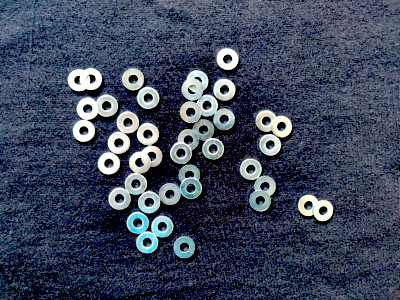circle: (158, 182, 184, 208), (258, 133, 283, 160), (121, 68, 147, 93), (216, 49, 241, 74), (249, 190, 273, 216), (138, 190, 162, 216), (173, 236, 198, 260), (72, 120, 96, 145), (136, 85, 160, 110), (255, 109, 278, 135), (297, 195, 321, 219), (239, 158, 263, 182), (152, 216, 176, 240), (116, 111, 140, 135), (203, 138, 227, 162), (213, 109, 237, 133), (213, 78, 237, 102), (124, 173, 149, 196), (98, 152, 121, 177), (80, 67, 103, 92), (107, 132, 132, 155), (191, 119, 216, 142), (255, 175, 278, 199), (177, 129, 201, 152), (179, 178, 204, 200), (96, 94, 118, 119), (137, 232, 160, 255), (68, 69, 91, 92), (137, 124, 160, 147), (170, 143, 193, 166), (179, 102, 202, 125), (186, 70, 209, 93), (126, 213, 150, 235), (108, 189, 132, 211), (141, 146, 165, 168), (179, 164, 202, 186), (129, 152, 152, 174), (181, 79, 204, 101), (271, 115, 292, 139), (76, 99, 100, 120), (196, 95, 218, 117), (314, 200, 334, 222)
